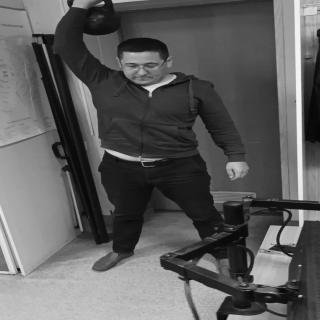girya: (68, 1, 122, 37)
